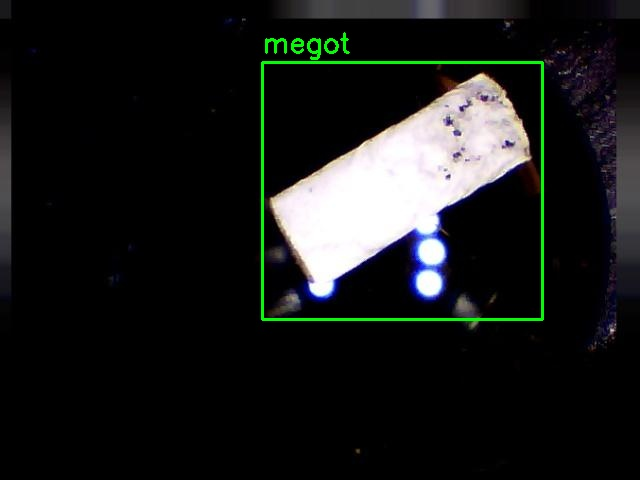megot: (262, 62, 542, 319)
